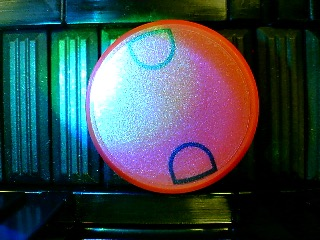MIPO2: (85, 19, 260, 193)
